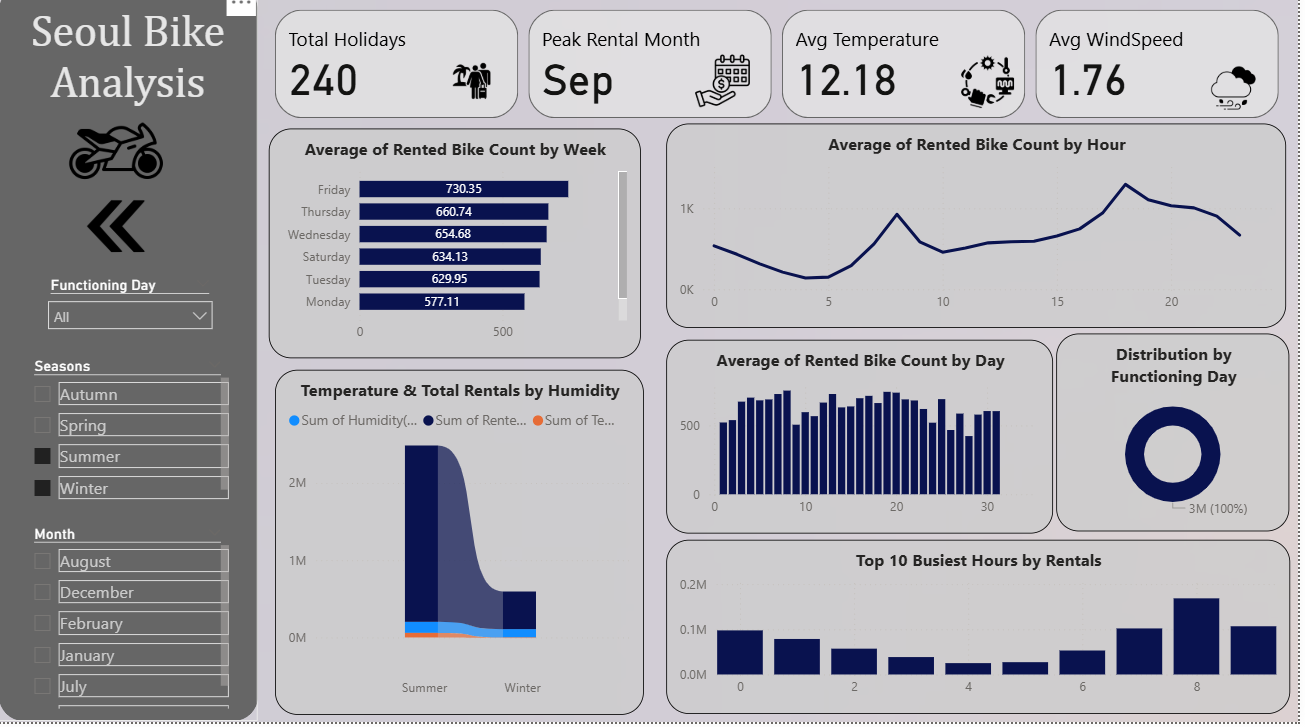

Layout of this report page (visuals, bound fields, positions):
{"tool":"powerbi","page":{"name":"Detalied","canvas":[1280,720],"ordinal":1},"visuals":[{"type":"shape","box":[0,0,261.7,719],"z":0},{"type":"slicer","fields":{"Values":["SeoulBikeData.Month"]},"box":[30,521.7,208.3,190],"z":1000},{"type":"slicer","fields":{"Values":["SeoulBikeData.Functioning Day"]},"box":[46.7,278.6,181.1,67.2],"z":2000},{"type":"textbox","box":[30.2,17.8,208.6,122.1],"z":3000},{"type":"image","box":[30.2,107,185.2,107],"z":4000},{"type":"cardVisual","fields":{"Data":["SeoulBikeData.Total Holidays","SeoulBikeData.Peak Rental Month","SeoulBikeData.Avg Temperature","SeoulBikeData.Avg WindSpeed"]},"box":[273.3,18.3,995,116.7],"z":5000},{"type":"image","box":[425.4,70,91.9,46.7],"z":6000},{"type":"image","box":[673.3,61.7,85,63.3],"z":7000},{"type":"image","box":[943.3,61.7,66.7,65],"z":8000},{"type":"image","box":[1175,71.7,81.7,55],"z":9000},{"type":"slicer","fields":{"Values":["SeoulBikeData.Seasons"]},"box":[30,358.3,208.3,151.7],"z":10000},{"type":"clusteredColumnChart","fields":{"Y":["Avg(SeoulBikeData.Rented Bike Count)"],"Category":["SeoulBikeData.Date.Variation.Date Hierarchy.Day"]},"box":[661.4,345.8,378.7,189.4],"z":11000},{"type":"lineChart","fields":{"Category":["SeoulBikeData.Hour"],"Y":["Avg(SeoulBikeData.Rented Bike Count)"]},"box":[661.4,134.5,606.5,200.3],"z":12000},{"type":"donutChart","title":"Distribution by Functioning Day","fields":{"Y":["Sum(SeoulBikeData.Rented Bike Count)"]},"box":[1043.3,340,228.3,193.3],"z":13000},{"type":"clusteredColumnChart","title":"Top 10 Busiest Hours by Rentals","fields":{"Category":["SeoulBikeData.Hour"],"Y":["Sum(SeoulBikeData.Rented Bike Count)"]},"box":[661.7,541.7,610,170],"z":14000},{"type":"ribbonChart","title":"Temperature & Total Rentals by Humidity","fields":{"Y":["Sum(SeoulBikeData.Humidity(%))","Sum(SeoulBikeData.Rented Bike Count)","Sum(SeoulBikeData.Temperature(°C))"],"Category":["SeoulBikeData.Seasons"]},"box":[278.6,376,360.9,337.6],"z":15000},{"type":"clusteredBarChart","fields":{"Category":["SeoulBikeData.Week"],"Y":["Avg(SeoulBikeData.Rented Bike Count)"]},"box":[273.1,140,363.6,225],"z":16000},{"type":"image","box":[81,200.3,85.1,68.6],"z":17000}]}

Visuals, with their boxes in screenshot pixels (x1, y1, x2, y2), scaled from the page's 1280x720 canvas onto the 1305x727 screenshot:
shape: box=[0, 0, 267, 726]
slicer - SeoulBikeData.Month: box=[31, 527, 243, 719]
slicer - SeoulBikeData.Functioning Day: box=[48, 281, 232, 349]
textbox: box=[31, 18, 243, 141]
image: box=[31, 108, 220, 216]
cardVisual - SeoulBikeData.Total Holidays x SeoulBikeData.Peak Rental Month: box=[279, 18, 1293, 136]
image: box=[434, 71, 527, 118]
image: box=[686, 62, 773, 126]
image: box=[962, 62, 1030, 128]
image: box=[1198, 72, 1281, 128]
slicer - SeoulBikeData.Seasons: box=[31, 362, 243, 515]
clusteredColumnChart - Avg(SeoulBikeData.Rented Bike Count) x SeoulBikeData.Date.Variation.Date Hierarchy.Day: box=[674, 349, 1060, 540]
lineChart - SeoulBikeData.Hour x Avg(SeoulBikeData.Rented Bike Count): box=[674, 136, 1293, 338]
"Distribution by Functioning Day" donutChart: box=[1064, 343, 1296, 538]
"Top 10 Busiest Hours by Rentals" clusteredColumnChart: box=[675, 547, 1297, 719]
"Temperature & Total Rentals by Humidity" ribbonChart: box=[284, 380, 652, 721]
clusteredBarChart - SeoulBikeData.Week x Avg(SeoulBikeData.Rented Bike Count): box=[278, 141, 649, 369]
image: box=[83, 202, 169, 272]
